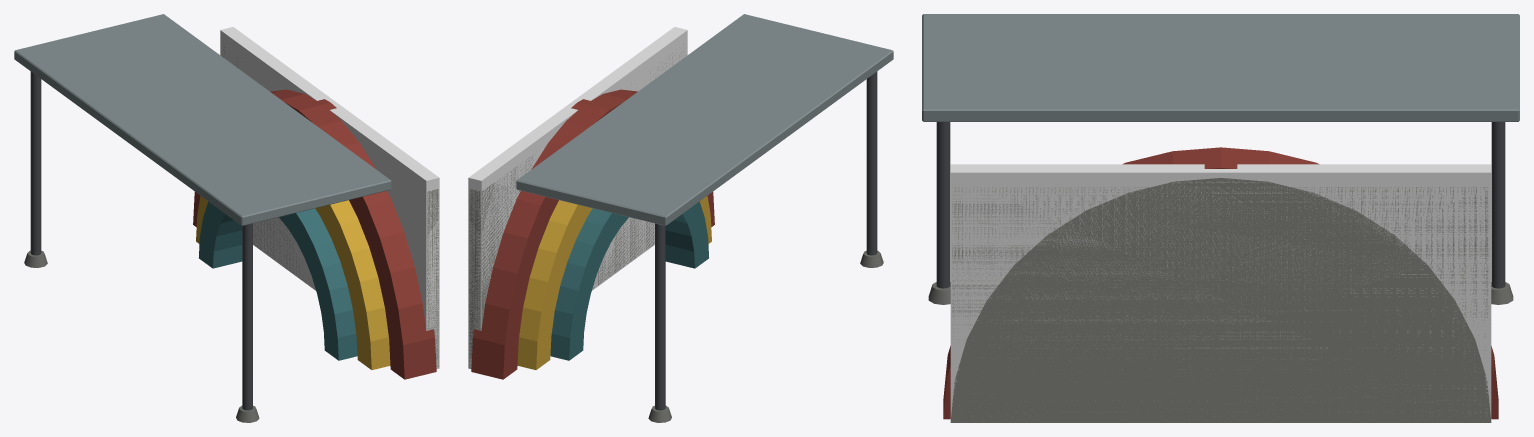
The model's file is stop-7.glb.
3 views of the same model, side by side, from view 1: azimuth 30°, elevation 25°; view 2: azimuth 150°, elevation 25°; view 3: azimuth 270°, elevation 25° (orthographic). The views are drawn at different scales.
Visible parts, largest first — view 1: 04_#7f8a8c, solid, 00_paint2, 02_paint0, 01_paint6, 05_#4c4e52, 03_#85857f, 06_#6e6e6a; view 2: 04_#7f8a8c, solid, 00_paint2, 02_paint0, 01_paint6, 03_#85857f, 05_#4c4e52, 06_#6e6e6a; view 3: 03_#85857f, 04_#7f8a8c, solid, 05_#4c4e52, 00_paint2, 06_#6e6e6a.
Part boxes in pixels (x1=…): 04_#7f8a8c: x1=14, y1=14, x2=391, y2=225; solid: x1=220, y1=27, x2=439, y2=368; 00_paint2: x1=193, y1=89, x2=436, y2=379; 02_paint0: x1=199, y1=201, x2=357, y2=360; 01_paint6: x1=196, y1=196, x2=390, y2=369; 05_#4c4e52: x1=30, y1=71, x2=252, y2=410; 03_#85857f: x1=223, y1=47, x2=438, y2=367; 06_#6e6e6a: x1=24, y1=250, x2=259, y2=422; 04_#7f8a8c: x1=516, y1=14, x2=893, y2=225; solid: x1=468, y1=27, x2=687, y2=368; 00_paint2: x1=471, y1=89, x2=714, y2=379; 02_paint0: x1=550, y1=201, x2=708, y2=360; 01_paint6: x1=517, y1=196, x2=711, y2=369; 03_#85857f: x1=469, y1=43, x2=684, y2=367; 05_#4c4e52: x1=655, y1=71, x2=877, y2=410; 06_#6e6e6a: x1=648, y1=250, x2=883, y2=422; 03_#85857f: x1=950, y1=178, x2=1491, y2=422; 04_#7f8a8c: x1=922, y1=14, x2=1519, y2=121; solid: x1=950, y1=164, x2=1491, y2=419; 05_#4c4e52: x1=936, y1=122, x2=1505, y2=288; 00_paint2: x1=943, y1=147, x2=1498, y2=419; 06_#6e6e6a: x1=928, y1=282, x2=1513, y2=304.
Size of the model in its own units: 2.22 by 2.14 by 4.2.
